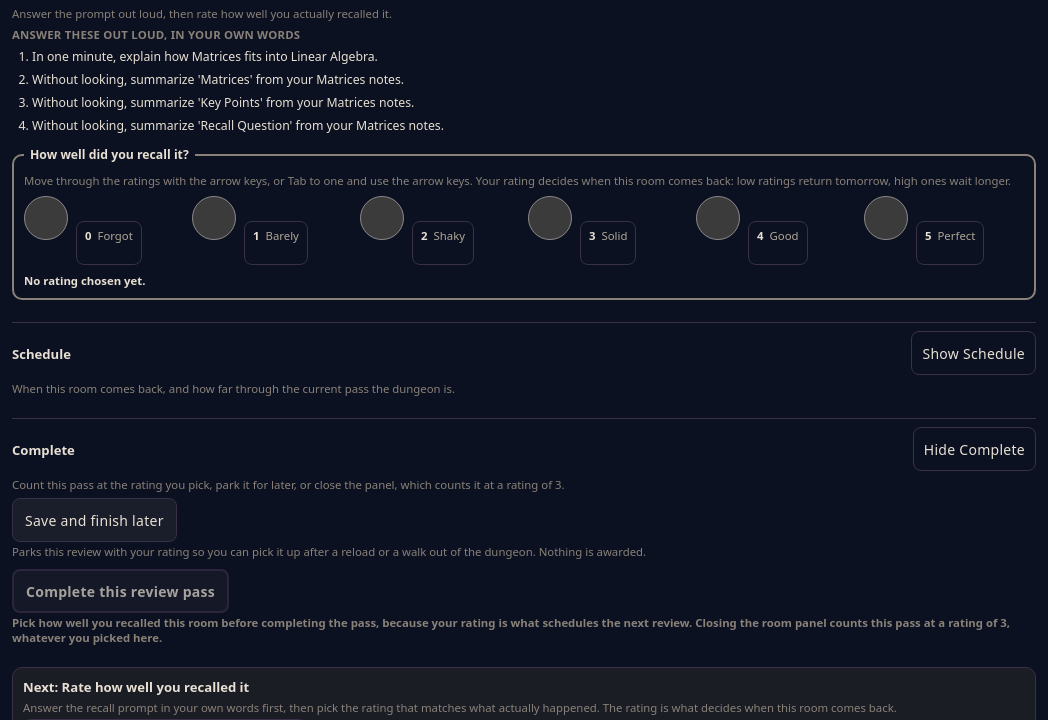
Scenario: overdue, due today, and scheduled are distinguishable without colour › says "Overdue" in words, with the day count
The image size is (1048, 720).
(page scrolled)
Click the button "Show Schedule". click: (974, 353)
box: [912, 331, 1036, 375]
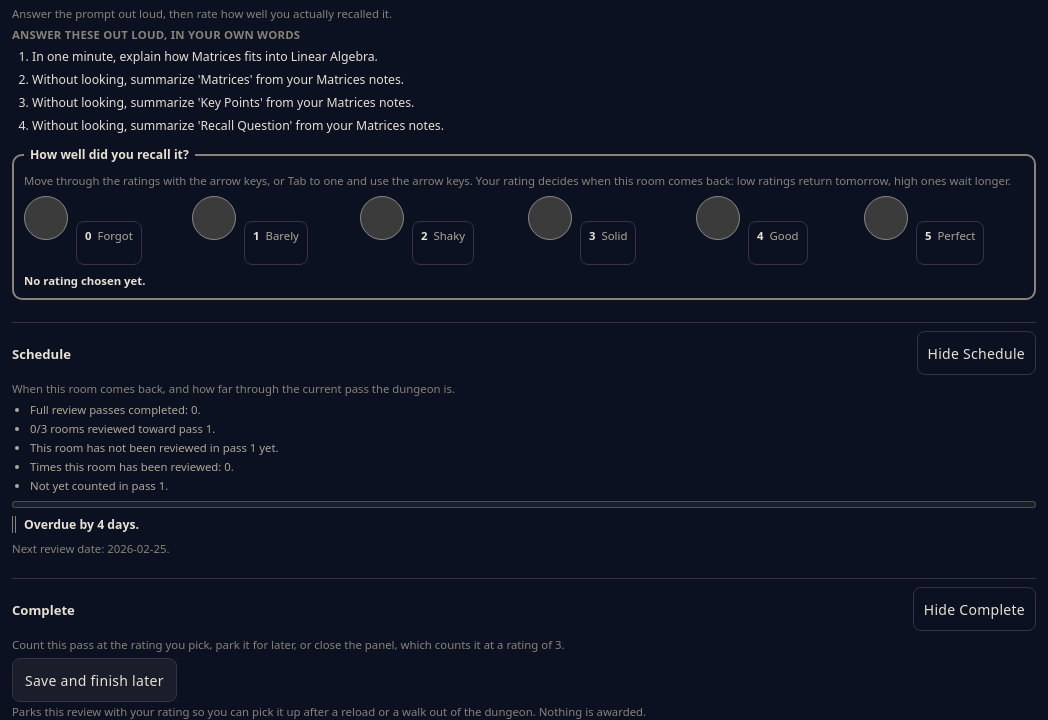
Expected: the text "Overdue by 4 days." is shown, [12, 516, 1036, 533]
